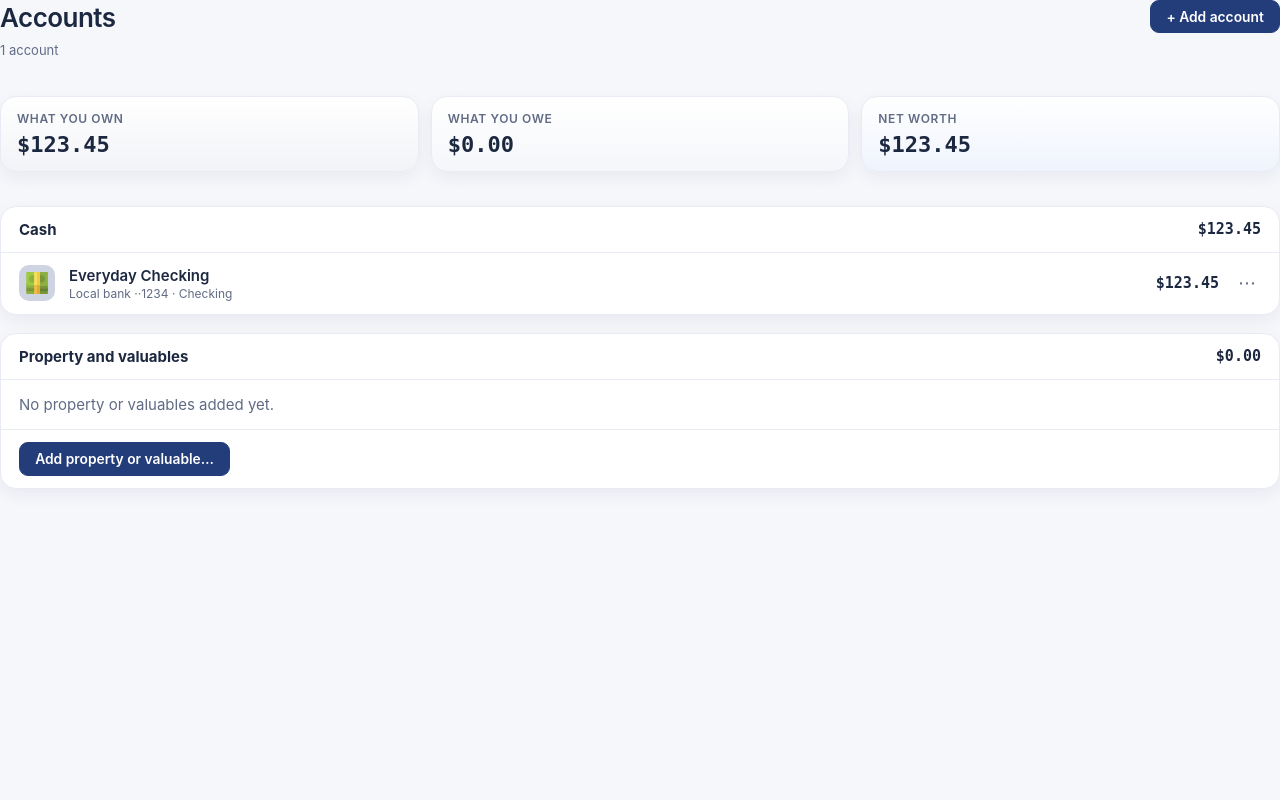
Test: account rows › Edit opens the account dialog without navigating to Details
The width and height of the screenshot is (1280, 800).
Click the button "⋯" at (1247, 284), box [1233, 270, 1261, 298]
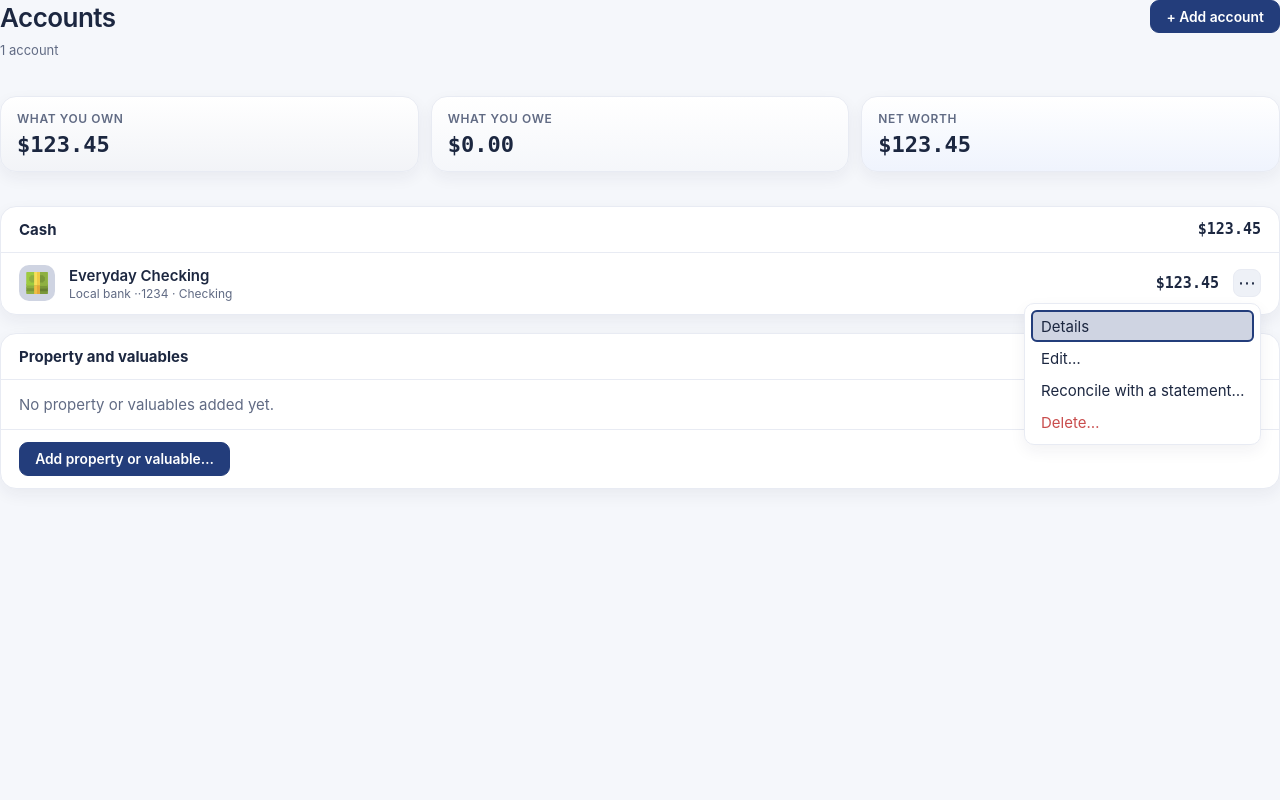
Click the menu item "Edit…" at (1143, 358), box [1031, 342, 1254, 374]
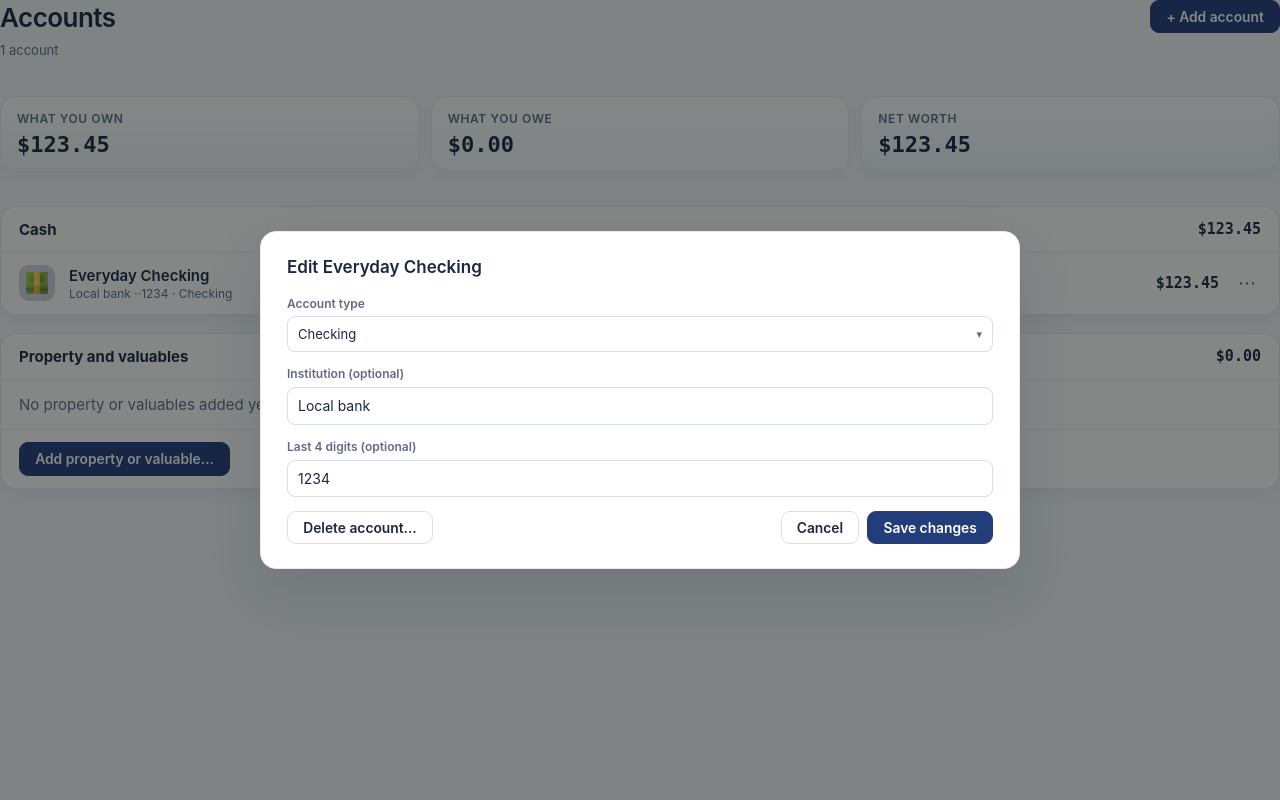
Expected: the dialog shows "Edit Everyday Checking", [287, 257, 482, 277]
